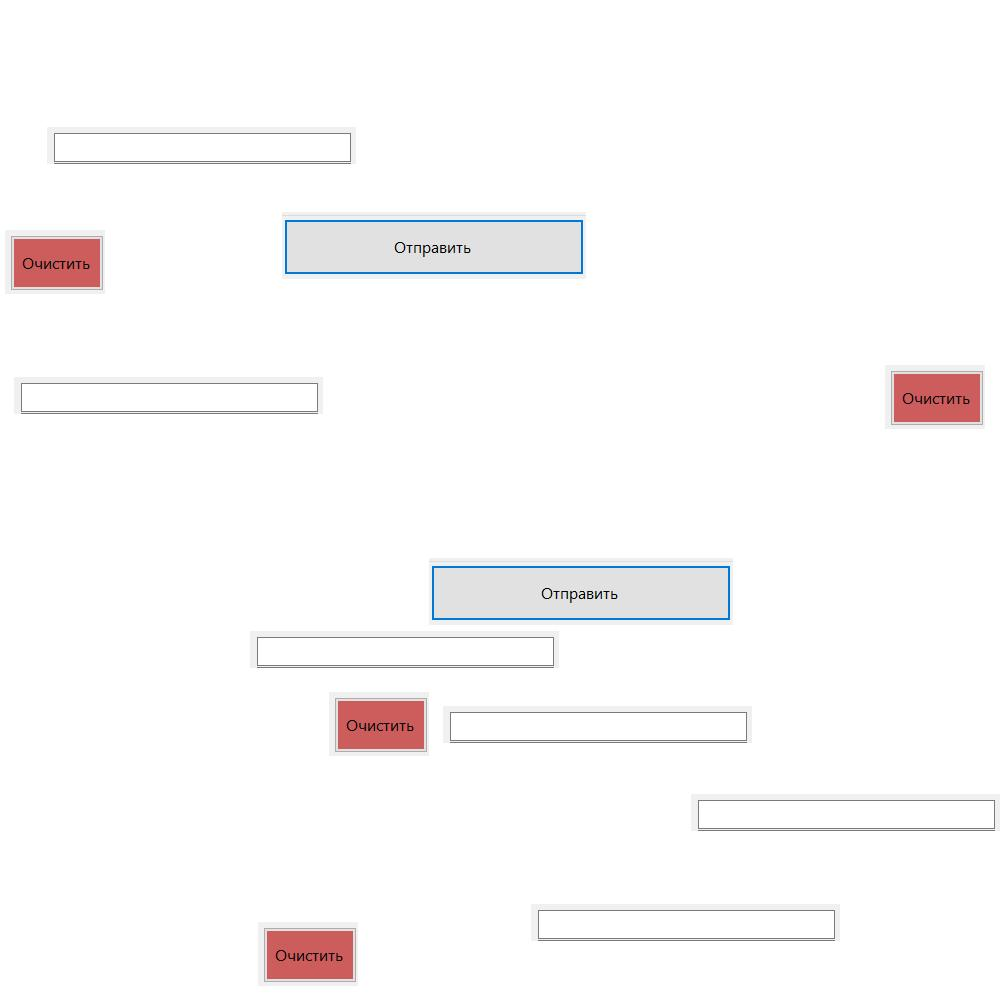Button: (282, 212, 586, 279), (429, 558, 733, 625), (885, 365, 985, 429), (329, 692, 429, 756), (5, 230, 105, 294), (258, 922, 358, 986)
EditText-: (250, 631, 559, 668), (531, 904, 840, 941), (47, 127, 356, 164), (691, 794, 1000, 831), (443, 706, 752, 743), (14, 377, 323, 414)
